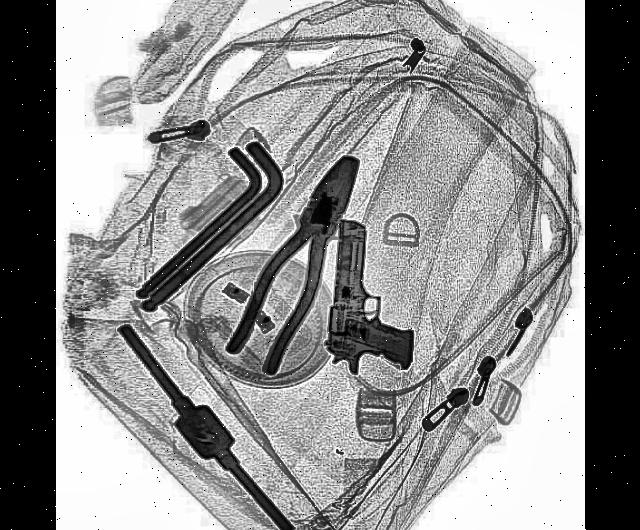Gun: (321, 216, 419, 378)
Pliers: (222, 135, 376, 387)
